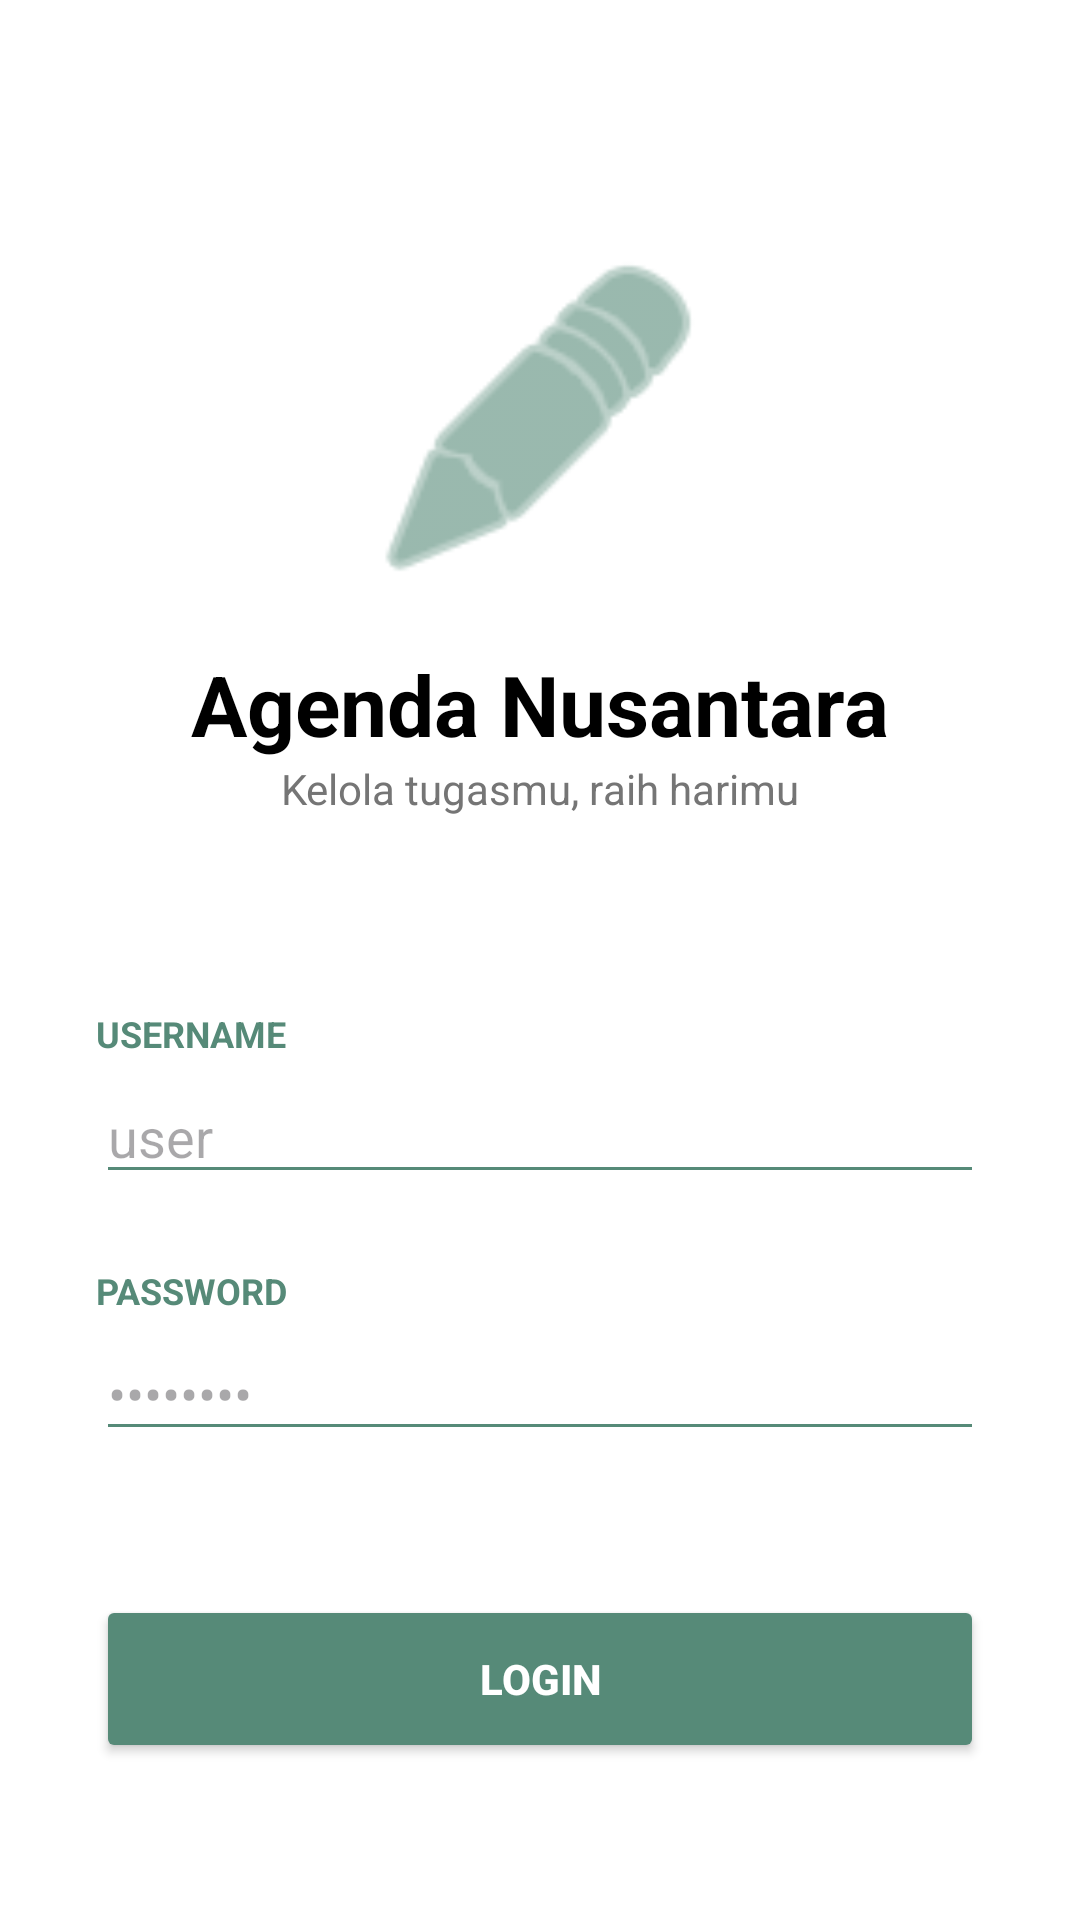

Screen size 1080 x 1920. Icon name, then its box in pixels as (x1, y1, x2, y2):
edit: (386, 266, 691, 570)
